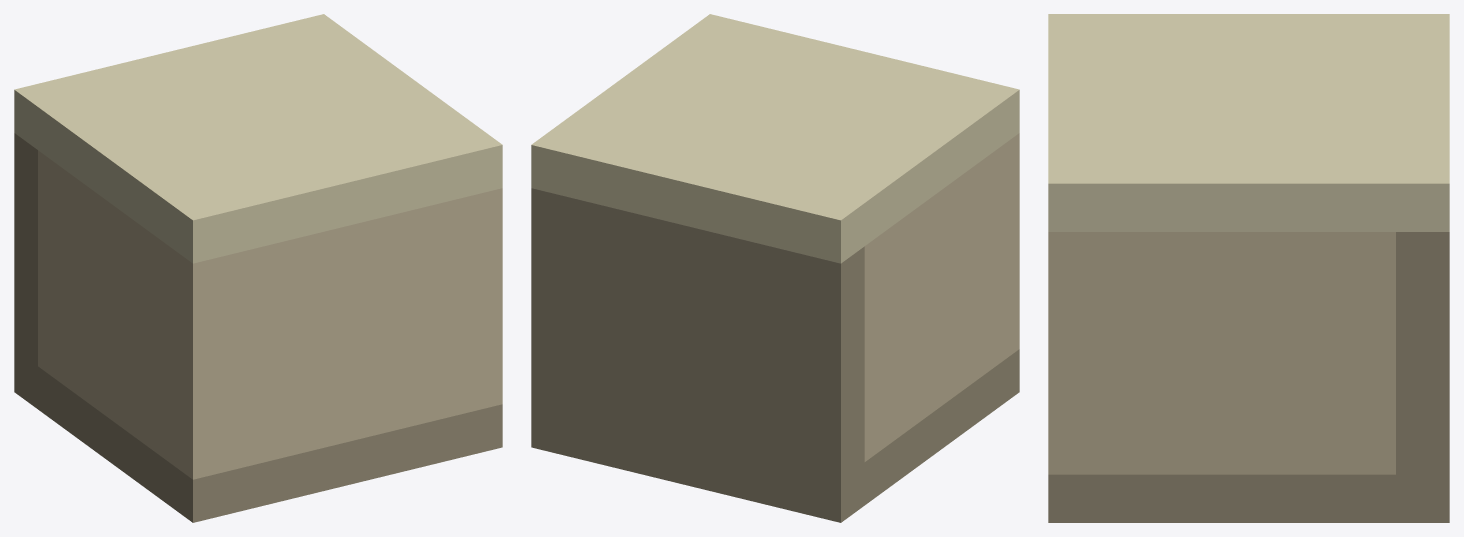
File: estante_pared_pino_01.glb
The picture shows the model from 3 angles, left to right: view 1: azimuth 30°, elevation 25°; view 2: azimuth 150°, elevation 25°; view 3: azimuth 270°, elevation 25°; orthographic projection. The views are drawn at different scales.
Visible parts, largest first — view 1: estante_pared_pino; view 2: estante_pared_pino; view 3: estante_pared_pino.
Part boxes in pixels (x1,y1,x2,y2): estante_pared_pino: (14,14,502,522); estante_pared_pino: (531,14,1019,522); estante_pared_pino: (1048,14,1449,522).
Size of the model in its own units: 1 by 0.9333 by 1.
